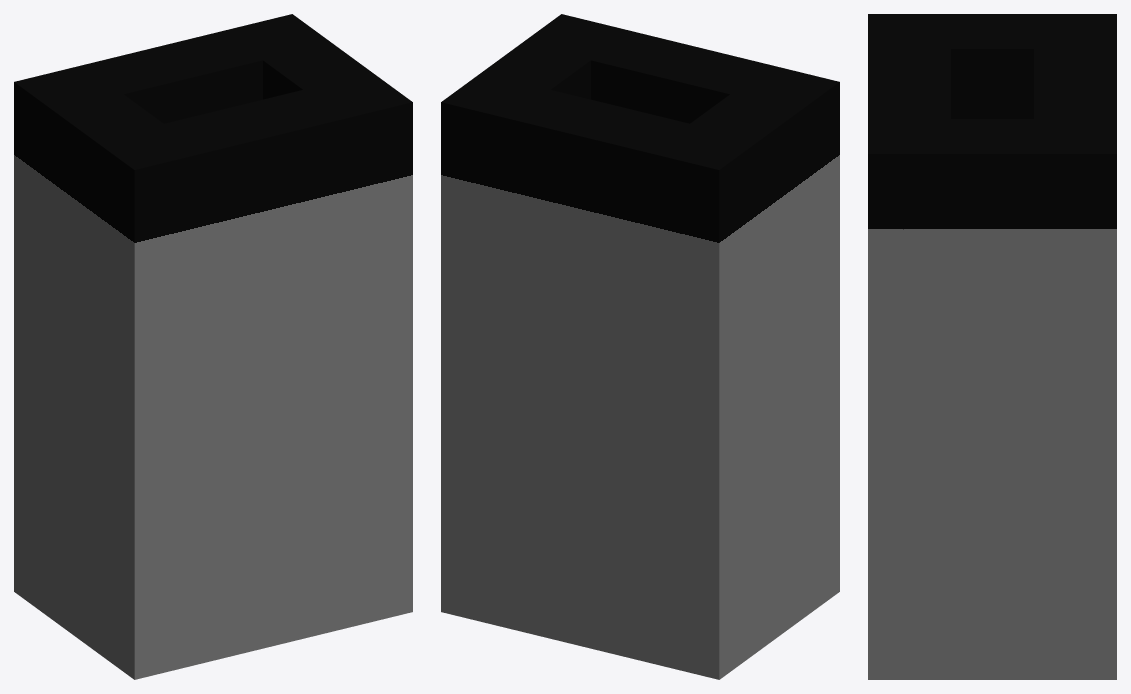
File: Bin.dae
3 renders of one model, left to right at view 1: azimuth 30°, elevation 25°; view 2: azimuth 150°, elevation 25°; view 3: azimuth 270°, elevation 25°, orthographic. The views are drawn at different scales.
Visible parts, largest first — view 1: Bin; view 2: Bin; view 3: Bin.
Boxes of the visible parts, bbox=[...] form: Bin: bbox=[14, 14, 412, 679]; Bin: bbox=[441, 14, 839, 679]; Bin: bbox=[868, 14, 1116, 679].
Size of the model in its own units: 4 by 7 by 3.
1 material, 1 textured.
